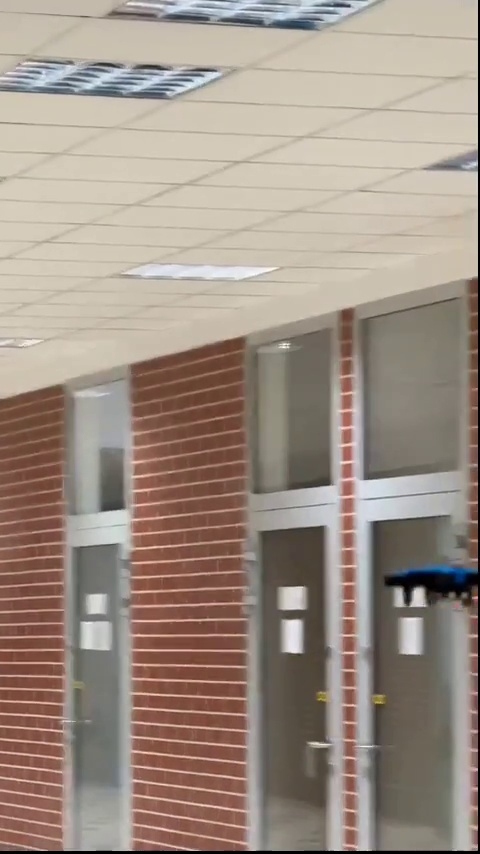drone: (382, 562, 480, 611)
